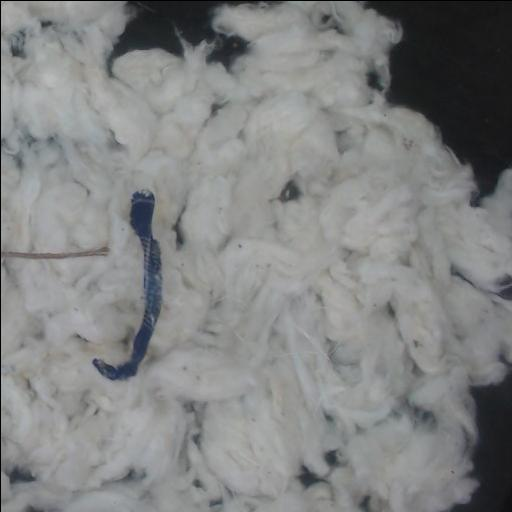conveyor belt: (363, 1, 512, 195), (450, 372, 512, 512), (142, 1, 225, 42), (113, 10, 181, 57)
cotton: (59, 9, 510, 510)
thread: (93, 230, 160, 379), (450, 267, 510, 309), (2, 246, 109, 258)
